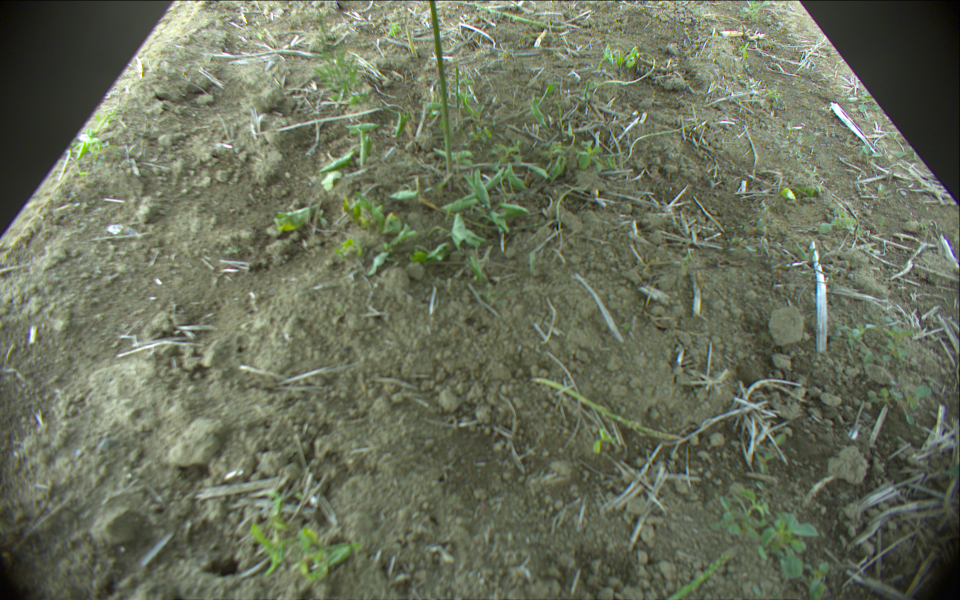aspa: (531, 374, 688, 445), (422, 1, 454, 177), (652, 542, 744, 600), (464, 1, 561, 32), (402, 25, 420, 57)
